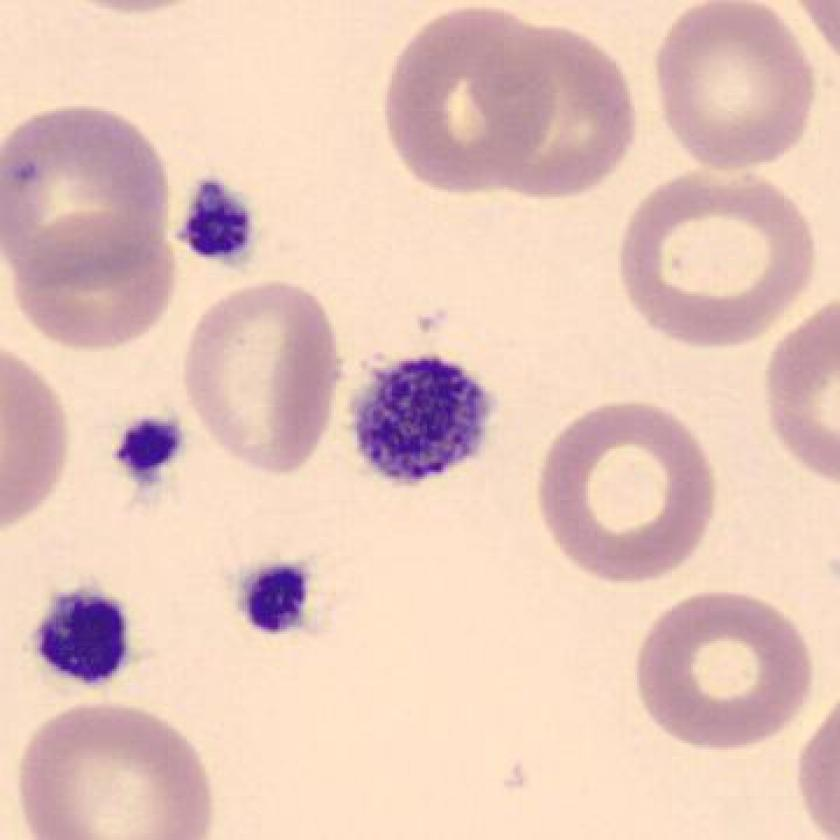platelets: (342, 348, 503, 499), (22, 579, 139, 693), (230, 545, 323, 651), (176, 173, 262, 270), (108, 406, 188, 487)
